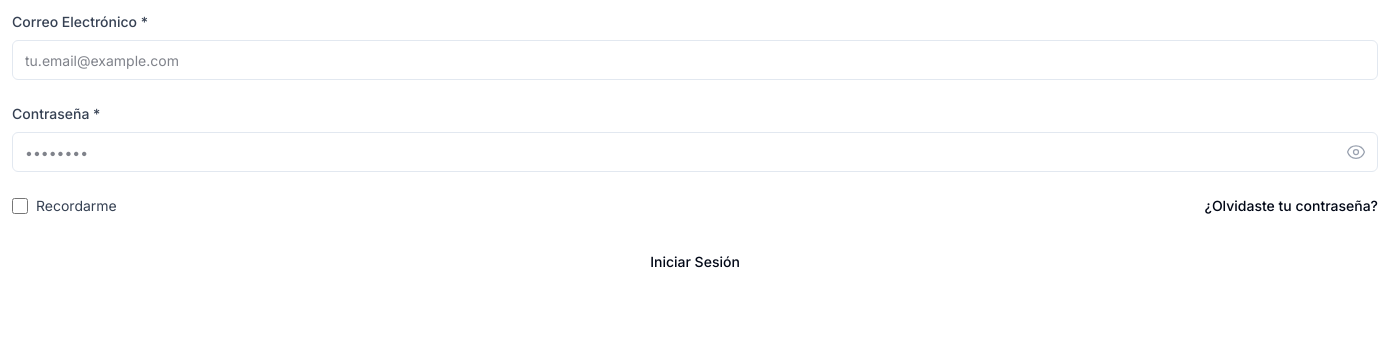
Fixed Authentication Flow Tests › Authentication Submission › Failed login shows error message and does not redirect
Type "invalid@example.com" into the field labelled "Correo Electrónico *" at [695, 60], box [12,40,1378,80]
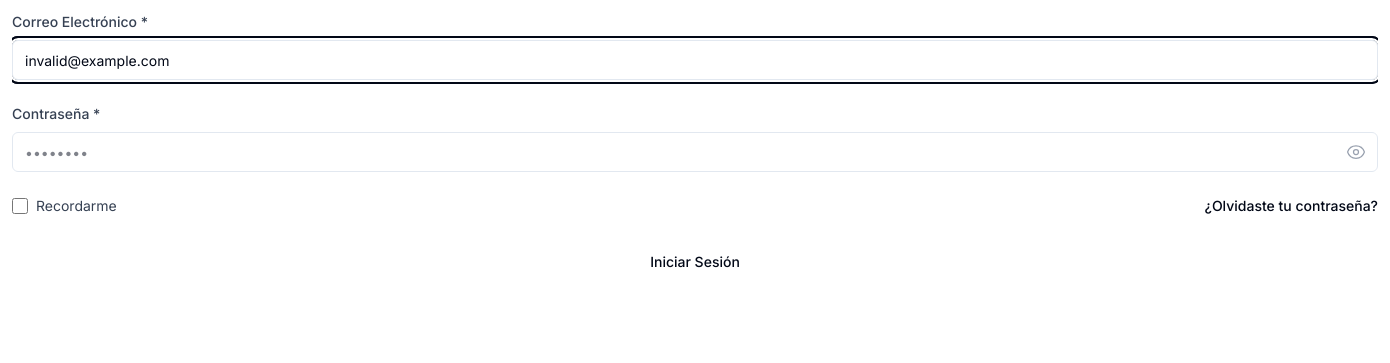
Type "wrongpassword" into the password field labelled "Contraseña *" at [695, 152], box [12,132,1378,172]
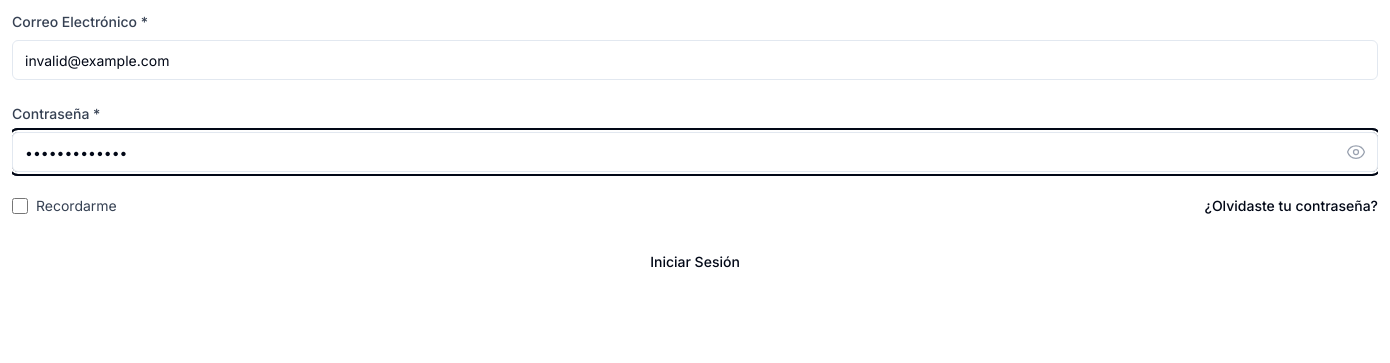
Click the button "Iniciar Sesión" at [695, 262], box [12,240,1378,284]
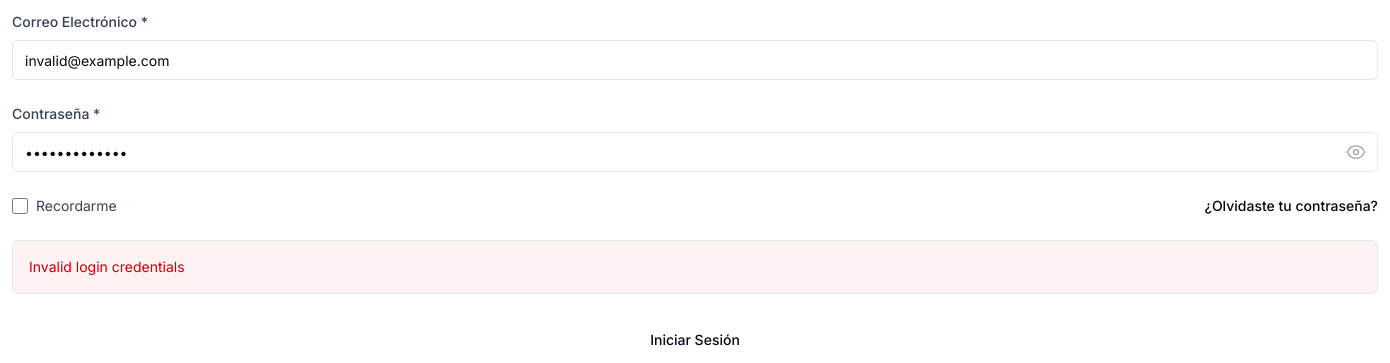
Expected: the text "Invalid login credentials" is shown, [29,258,185,275]
